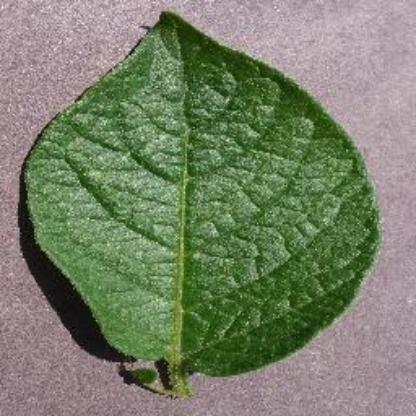Healthy-plant: (18, 9, 384, 397)
